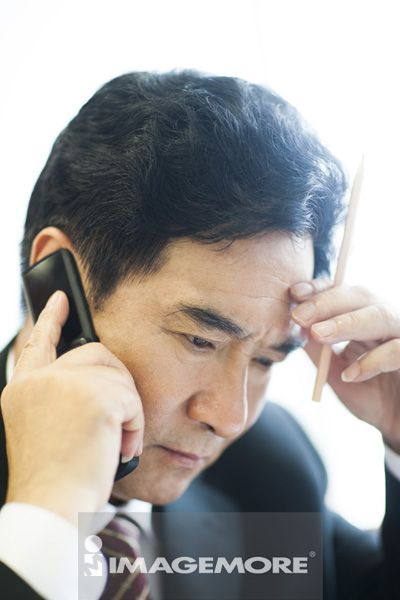talk: (1, 245, 304, 538)
